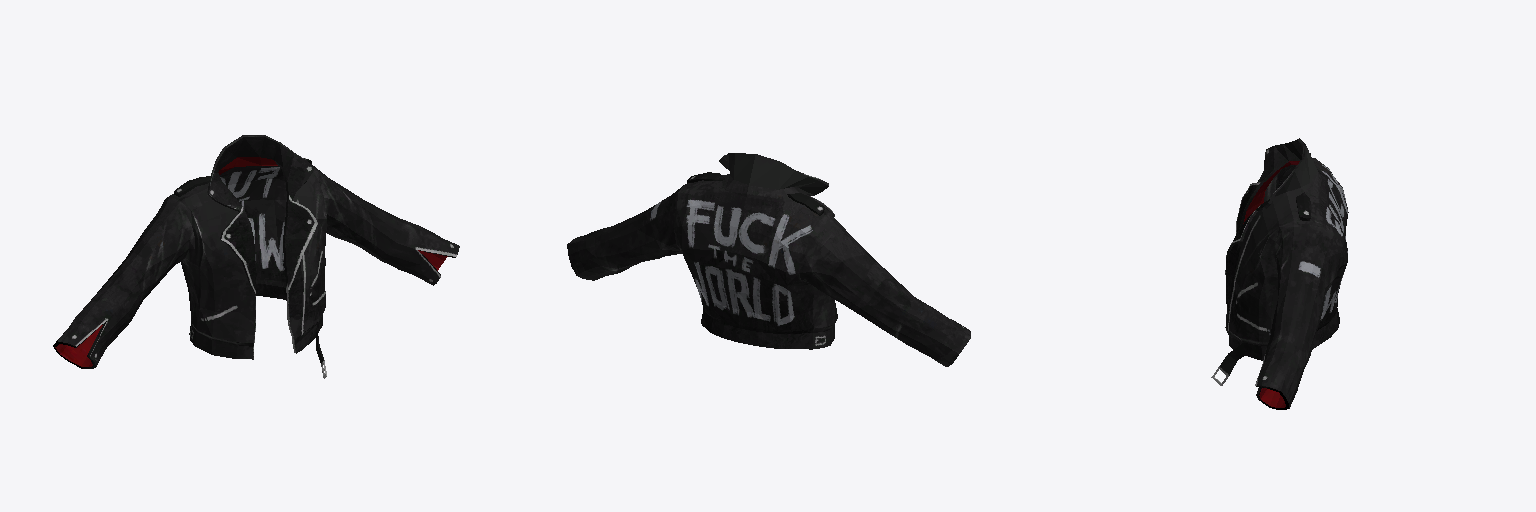
3 renders of one model, left to right at view 1: azimuth 30°, elevation 25°; view 2: azimuth 150°, elevation 25°; view 3: azimuth 270°, elevation 25°, orthographic.
Parts seen in each view (by area): view 1: fuckTheWorld_jacket; view 2: fuckTheWorld_jacket; view 3: fuckTheWorld_jacket.
Part boxes in pixels (x1,y1,x2,y2): fuckTheWorld_jacket: (53,135,459,378); fuckTheWorld_jacket: (567,153,970,366); fuckTheWorld_jacket: (1211,138,1348,409).
Size of the model in its own units: 1.29 by 0.6835 by 0.3816.
Materials: 1 (1 with a texture image).